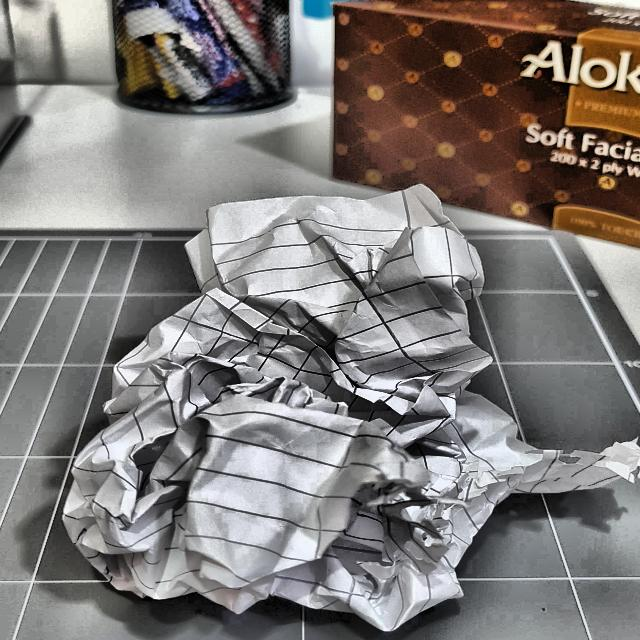paper: (41, 198, 640, 618)
